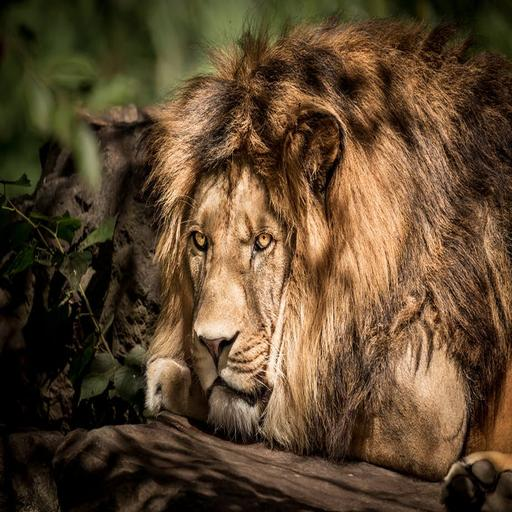Lion: (126, 1, 512, 507)
